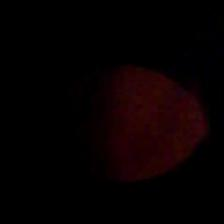fertile: (43, 62, 207, 185)
